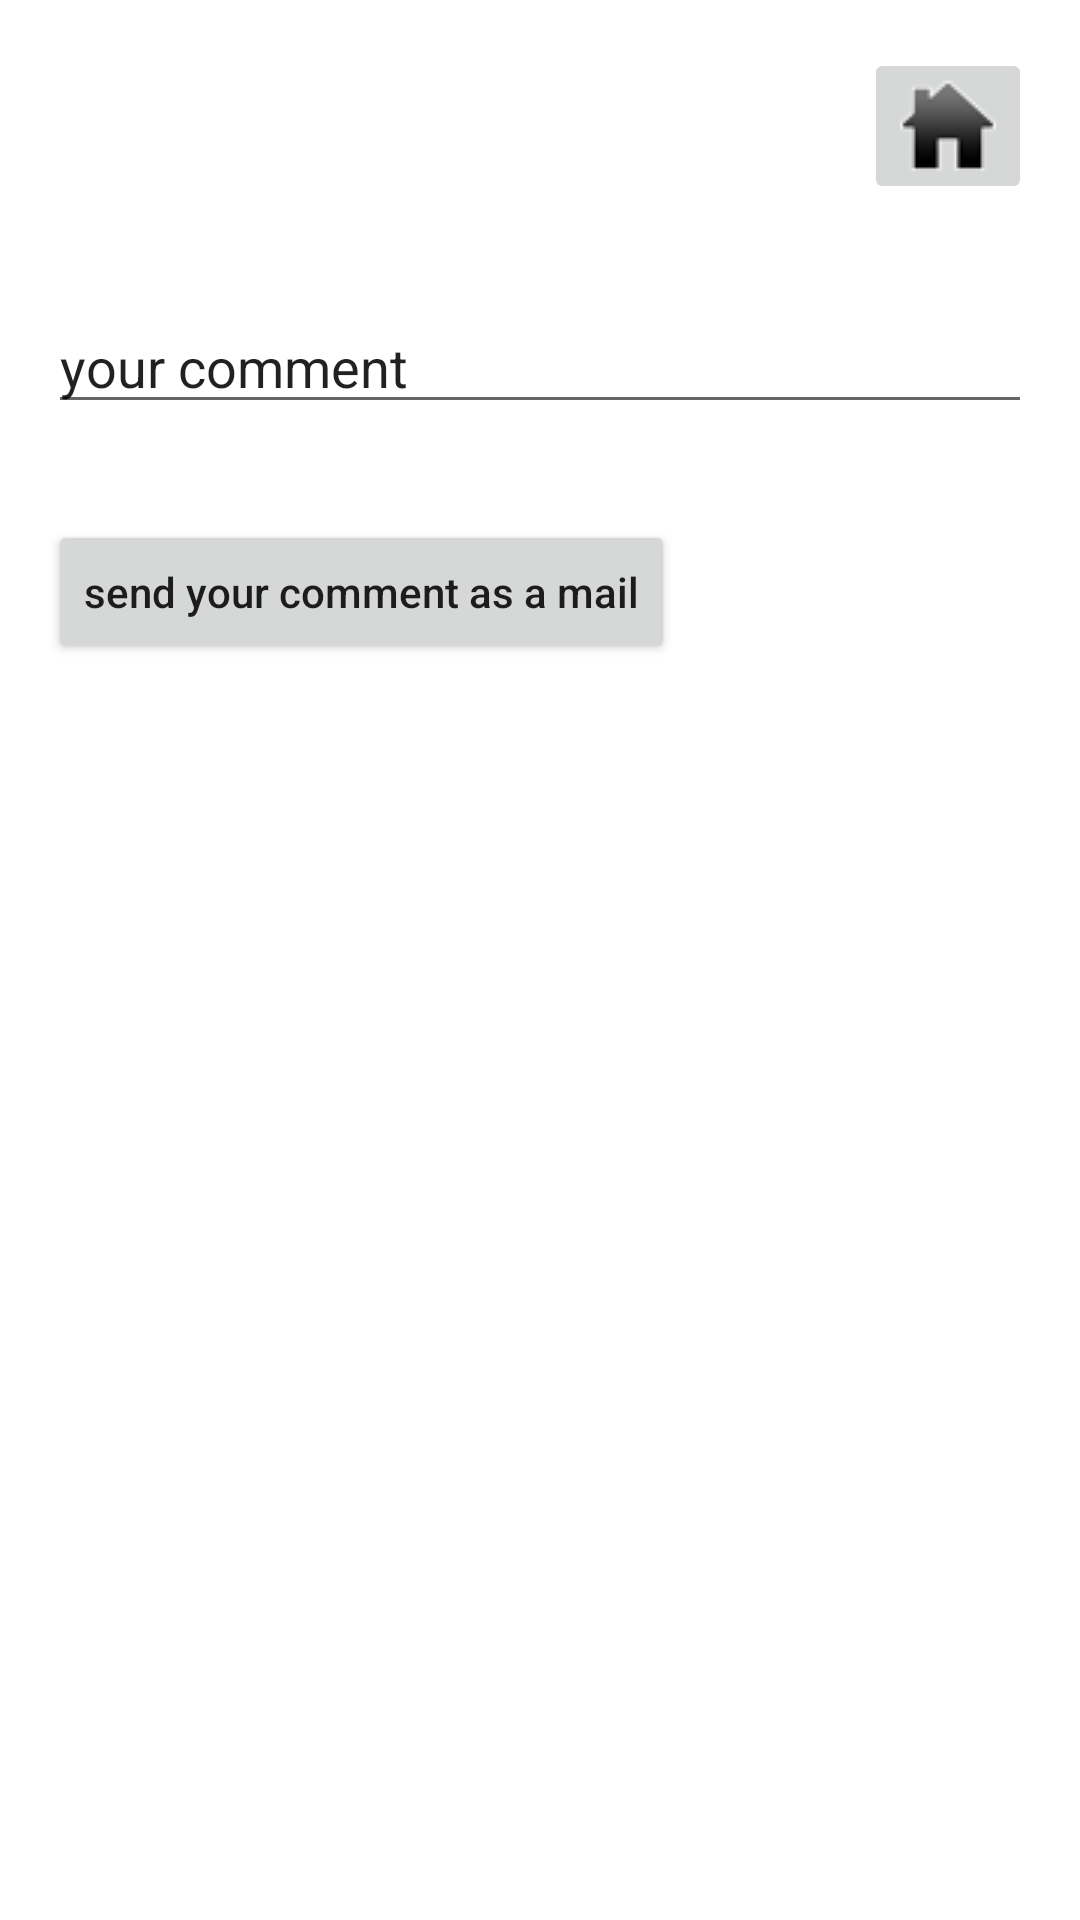

Where to tap for icons on this 1080w x 1920h app screen, as [x,y]:
return to the home page: [948,126]
